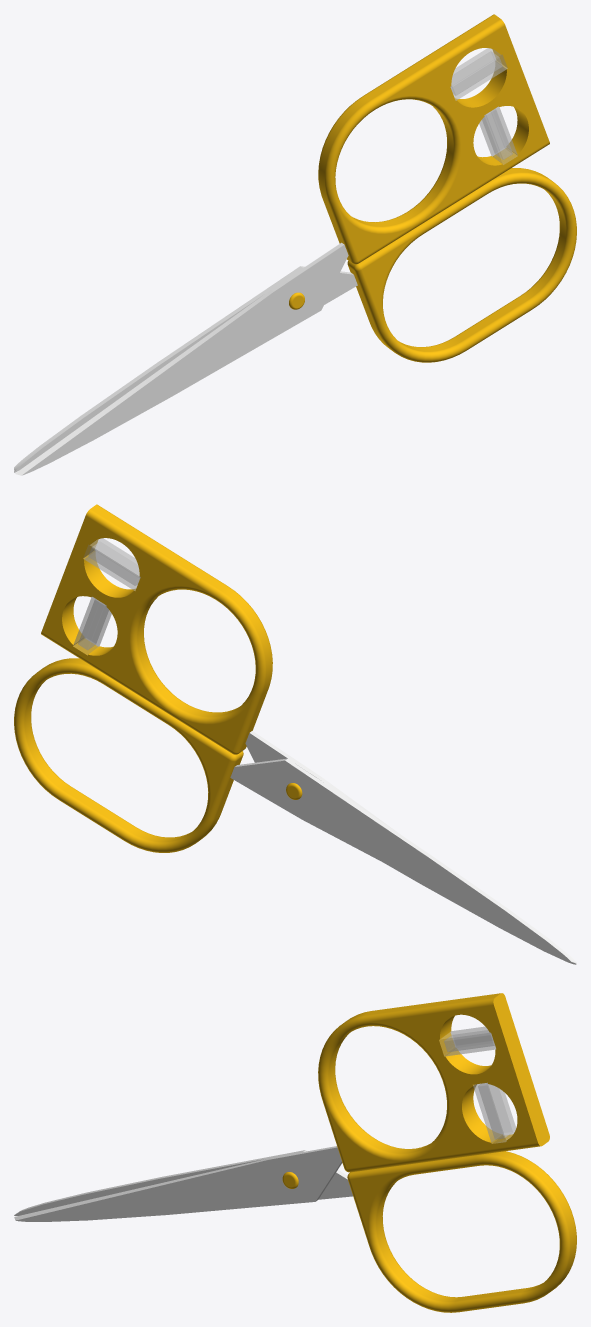
File: scissors.gltf
The picture shows the model from 3 angles, top to bottom: view 1: azimuth 30°, elevation 25°; view 2: azimuth 150°, elevation 25°; view 3: azimuth 330°, elevation 25°; orthographic projection.
Visible parts, largest first — view 1: mesh1_meshnode_1, mesh90_meshnode_90, mesh72_meshnode_72, mesh63_meshnode_63, mesh13_meshnode_13 (×2), mesh2_meshnode_2, mesh5_meshnode_5, mesh47_meshnode_47, mesh4_meshnode_4, mesh75_meshnode_75, mesh54_meshnode_54, mesh76_meshnode_76 (+9 smaller); view 2: mesh1_meshnode_1, mesh91_meshnode_91, mesh84_meshnode_84, mesh62_meshnode_62, mesh12_meshnode_12 (×2), mesh44_meshnode_44, mesh4_meshnode_4, mesh79_meshnode_79, mesh53_meshnode_53, mesh2_meshnode_2, mesh76_meshnode_76, mesh71_meshnode_71 (+8 smaller); view 3: mesh1_meshnode_1, mesh90_meshnode_90, mesh72_meshnode_72, mesh63_meshnode_63, mesh80_meshnode_80, mesh47_meshnode_47, mesh13_meshnode_13 (×2), mesh2_meshnode_2, mesh54_meshnode_54, mesh55_meshnode_55, mesh71_meshnode_71, mesh56_meshnode_56 (+13 smaller).
Part boxes in pixels (x1,y1,x2,y2): mesh1_meshnode_1: (22,245,348,475); mesh90_meshnode_90: (379,25,549,220); mesh72_meshnode_72: (324,95,461,233); mesh63_meshnode_63: (484,172,576,309); mesh13_meshnode_13 (×2): (450,55,517,164); mesh2_meshnode_2: (14,273,357,472); mesh5_meshnode_5: (15,289,273,475); mesh47_meshnode_47: (376,232,466,362); mesh4_meshnode_4: (14,266,302,472); mesh75_meshnode_75: (370,19,505,106); mesh54_meshnode_54: (358,185,487,269); mesh76_meshnode_76: (365,15,500,100); mesh1_meshnode_1: (230,760,570,961); mesh91_meshnode_91: (41,516,213,710); mesh84_meshnode_84: (129,586,266,724); mesh62_meshnode_62: (14,662,106,799); mesh12_meshnode_12 (×2): (73,545,140,655); mesh44_meshnode_44: (124,722,214,852); mesh4_meshnode_4: (285,759,576,963); mesh79_meshnode_79: (85,509,220,596); mesh53_meshnode_53: (103,675,232,759); mesh2_meshnode_2: (245,733,576,964); mesh76_meshnode_76: (90,505,225,590); mesh71_meshnode_71: (137,597,238,716); mesh1_meshnode_1: (16,1147,341,1221); mesh90_meshnode_90: (364,1005,537,1159); mesh72_meshnode_72: (318,1015,449,1160); mesh63_meshnode_63: (475,1154,570,1303); mesh80_meshnode_80: (493,993,549,1146); mesh47_meshnode_47: (368,1171,457,1312); mesh13_meshnode_13 (×2): (439,1033,506,1143); mesh2_meshnode_2: (14,1159,352,1215); mesh54_meshnode_54: (350,1155,479,1179); mesh55_meshnode_55: (484,1151,576,1291); mesh71_meshnode_71: (328,1032,430,1153); mesh56_meshnode_56: (376,1181,460,1301).
Size of the model in its own units: 0.179 by 0.104 by 0.00635.
